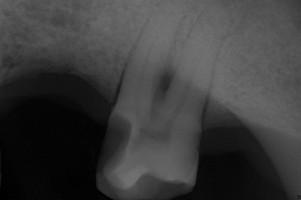Endo-Periodontal Lesion: (159, 64, 177, 91)
